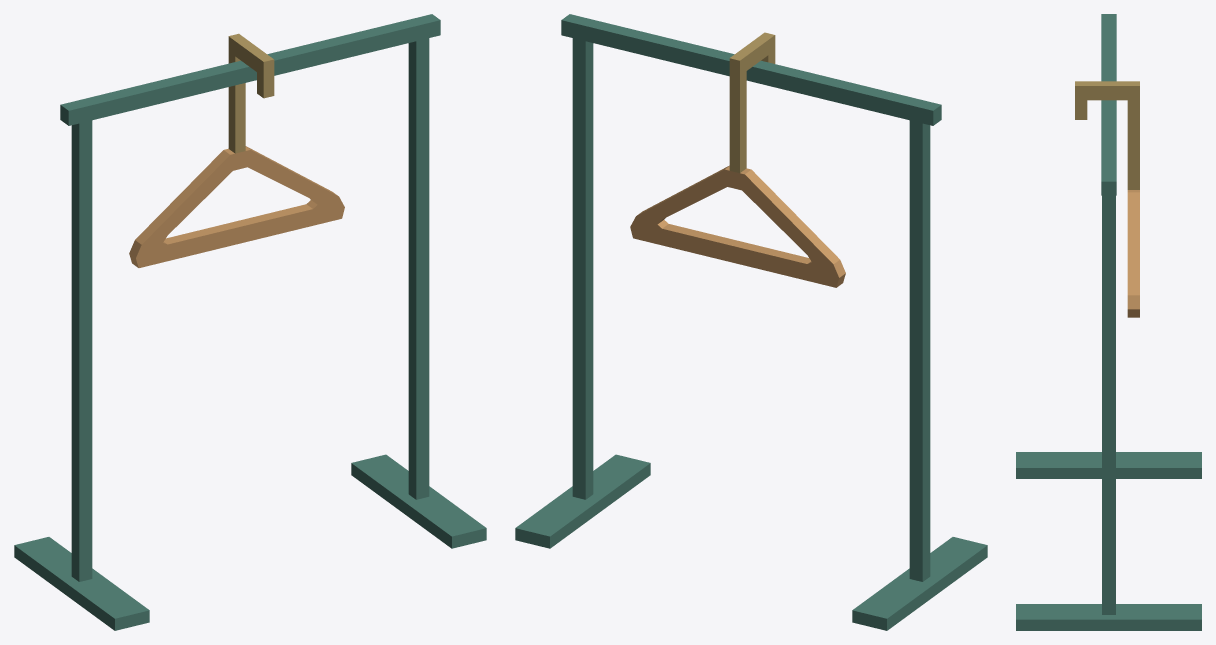
3 views of the same model, side by side, from view 1: azimuth 30°, elevation 25°; view 2: azimuth 150°, elevation 25°; view 3: azimuth 270°, elevation 25° (orthographic). The views are drawn at different scales.
Visible parts, largest first — view 1: LeftFullUpright, RightFullUpright, OpenTriangularShoulderHanger, FullUpperGarmentRail, RightGroundedCrossfoot, LeftGroundedCrossfoot, ContinuousOpenSaddleHook; view 2: LeftFullUpright, RightFullUpright, OpenTriangularShoulderHanger, FullUpperGarmentRail, RightGroundedCrossfoot, LeftGroundedCrossfoot, ContinuousOpenSaddleHook; view 3: RightFullUpright, RightGroundedCrossfoot, LeftGroundedCrossfoot, ContinuousOpenSaddleHook, FullUpperGarmentRail, OpenTriangularShoulderHanger.
Part boxes in pixels (box(x1,y1,x2,y2)): LeftFullUpright: box(71, 120, 92, 581); RightFullUpright: box(408, 38, 429, 499); OpenTriangularShoulderHanger: box(129, 146, 344, 267); FullUpperGarmentRail: box(60, 14, 440, 125); RightGroundedCrossfoot: box(351, 454, 486, 548); LeftGroundedCrossfoot: box(14, 537, 149, 630); ContinuousOpenSaddleHook: box(228, 33, 274, 153); LeftFullUpright: box(909, 120, 930, 581); RightFullUpright: box(572, 38, 593, 499); OpenTriangularShoulderHanger: box(630, 165, 845, 287); FullUpperGarmentRail: box(561, 14, 941, 125); RightGroundedCrossfoot: box(515, 454, 650, 548); LeftGroundedCrossfoot: box(852, 537, 987, 630); ContinuousOpenSaddleHook: box(729, 32, 775, 172); RightFullUpright: box(1102, 195, 1115, 614); RightGroundedCrossfoot: box(1016, 604, 1201, 630); LeftGroundedCrossfoot: box(1016, 452, 1201, 478); ContinuousOpenSaddleHook: box(1075, 81, 1139, 189); FullUpperGarmentRail: box(1101, 14, 1116, 195); OpenTriangularShoulderHanger: box(1127, 190, 1139, 317).
Size of the model in its own units: 1.28 by 1.65 by 0.6.
